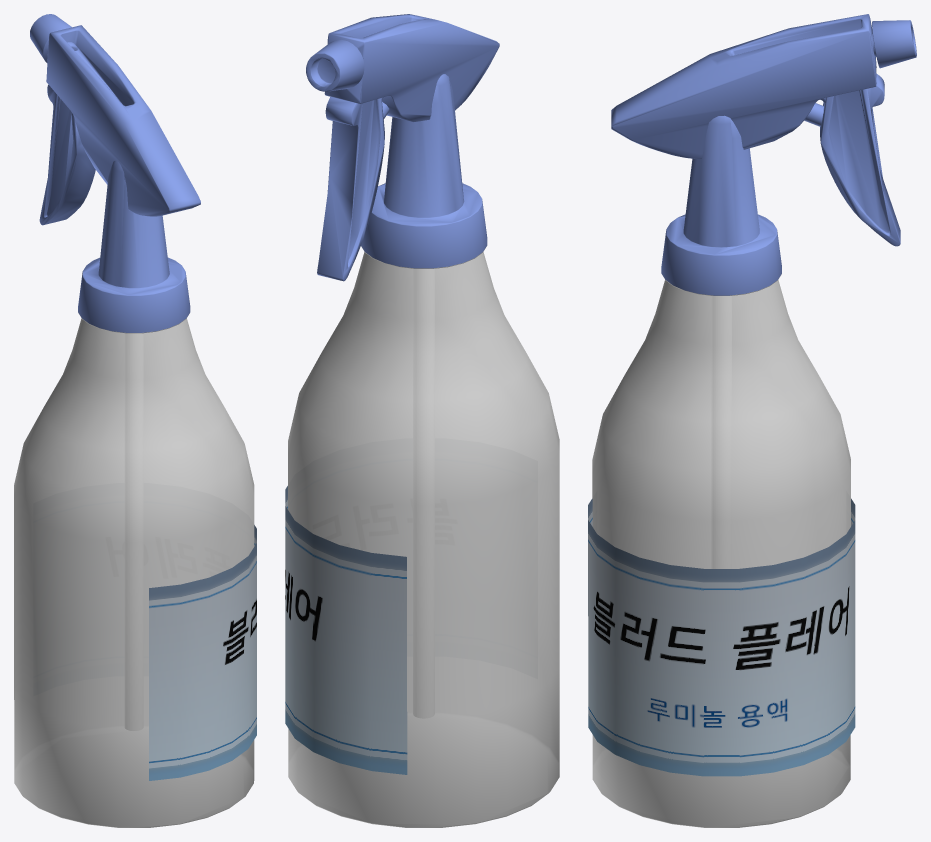
The model's file is luminol_spray.fbx.
The picture shows the model from 3 angles, left to right: view 1: azimuth 30°, elevation 25°; view 2: azimuth 150°, elevation 25°; view 3: azimuth 270°, elevation 25°; orthographic projection. The views are drawn at different scales.
Parts seen in each view (by area): view 1: 17282_SprayBottle_v1, 17282_SprayBottle_v1.001, Cylinder; view 2: 17282_SprayBottle_v1, 17282_SprayBottle_v1.001, Cylinder; view 3: 17282_SprayBottle_v1, 17282_SprayBottle_v1.001, Cylinder.
Boxes of the visible parts, x1,y1,x2,y2 form: 17282_SprayBottle_v1: (14,14,254,827); 17282_SprayBottle_v1.001: (149,525,256,780); Cylinder: (125,334,142,730); 17282_SprayBottle_v1: (288,14,559,827); 17282_SprayBottle_v1.001: (285,486,407,774); Cylinder: (413,269,434,717); 17282_SprayBottle_v1: (592,14,916,827); 17282_SprayBottle_v1.001: (588,498,855,776); Cylinder: (712,296,731,568).
Bounding box in the file's own units: 112 × 355 × 141.
